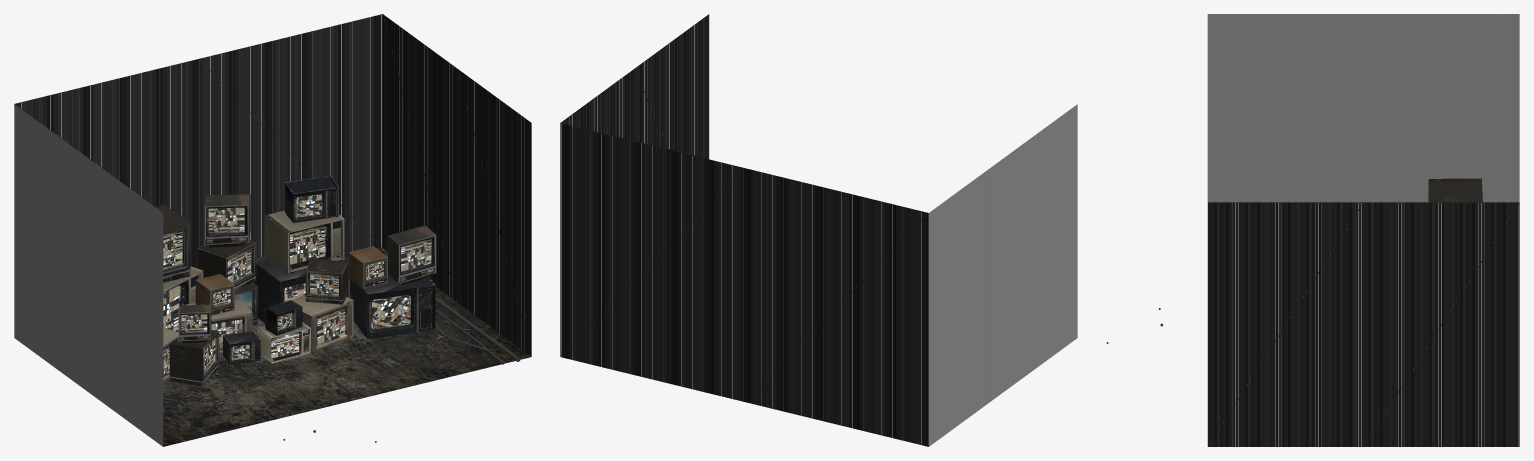
Rendered from monitors.glb.
The picture shows the model from 3 angles, left to right: view 1: azimuth 30°, elevation 25°; view 2: azimuth 150°, elevation 25°; view 3: azimuth 270°, elevation 25°; orthographic projection. The views are drawn at different scales.
Parts seen in each view (by area): view 1: floor_n_stuff, TVsss_MADE_BY_DAFTVID_, bad_cable_management_lol; view 2: floor_n_stuff; view 3: floor_n_stuff, TVsss_MADE_BY_DAFTVID_.
Boxes of the visible parts, x1,y1,x2,y2 form: floor_n_stuff: [14, 14, 531, 446]; TVsss_MADE_BY_DAFTVID_: [155, 176, 436, 386]; bad_cable_management_lol: [435, 297, 520, 364]; floor_n_stuff: [560, 14, 1077, 446]; floor_n_stuff: [1207, 14, 1519, 446]; TVsss_MADE_BY_DAFTVID_: [1428, 178, 1482, 202].
Size of the model in its own units: 1.61 by 0.9865 by 1.49.
5 materials, 4 textured.
